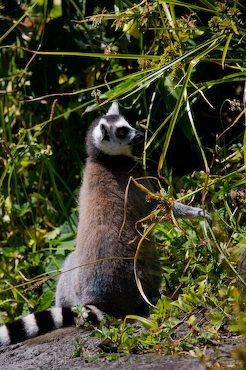cat: (1, 97, 207, 348)
